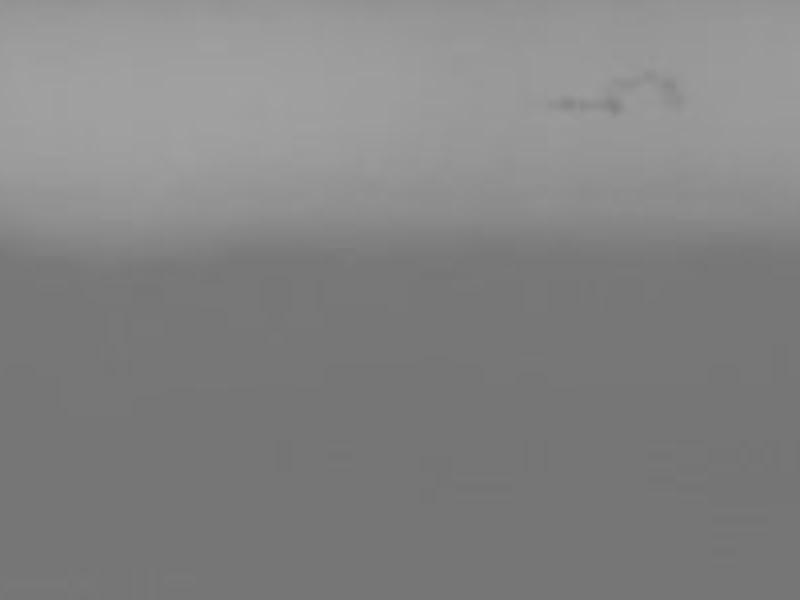defect: (663, 88, 687, 112), (610, 70, 638, 89), (577, 96, 605, 113), (553, 94, 575, 114), (606, 95, 623, 116), (643, 67, 661, 84), (661, 72, 678, 87)
